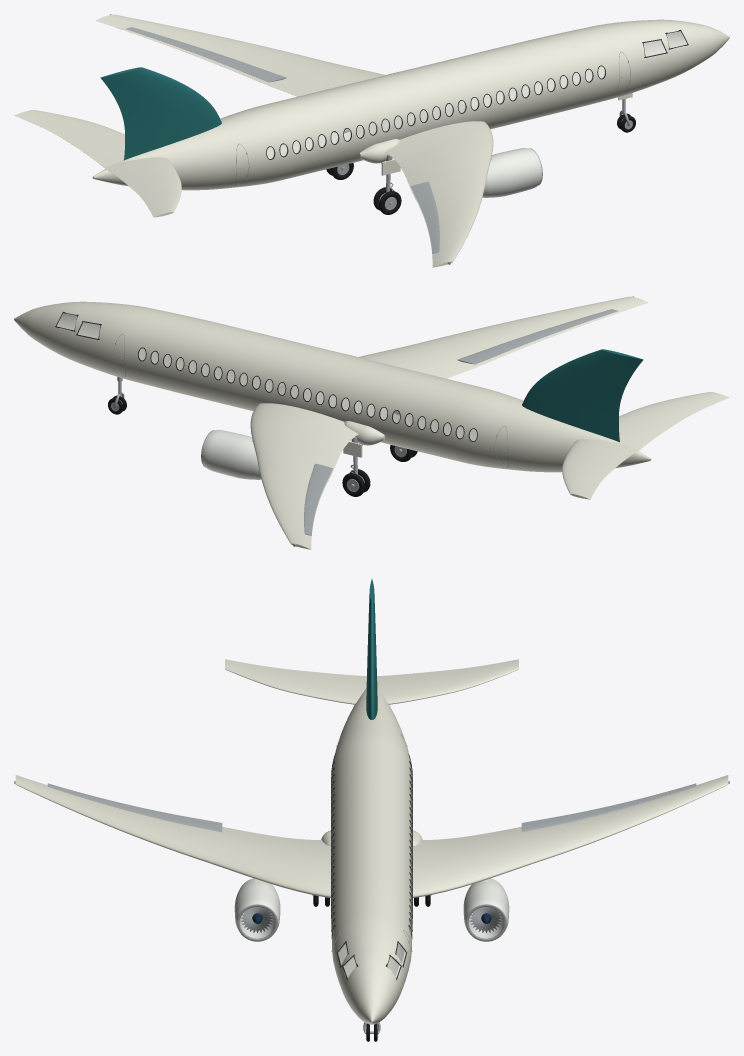
The model's file is narrow-body-airliner.glb.
3 views of the same model, one above another, from view 1: azimuth 30°, elevation 25°; view 2: azimuth 150°, elevation 25°; view 3: azimuth 270°, elevation 25° (orthographic). The views are drawn at different scales.
Parts seen in each view (by area): view 1: Finite lofted fuselage with actual window apertures, Finite swept main wing -1, Shaped seated vertical stabilizer, Finite swept main wing 1, Finite horizontal stabilizer 1, Finite horizontal stabilizer -1, Turbofan -1 finite open nacelle, Seated finite aileron strip 1, Seated finite aileron strip -1, Main gear root fairing -1; view 2: Finite lofted fuselage with actual window apertures, Finite swept main wing 1, Shaped seated vertical stabilizer, Finite swept main wing -1, Finite horizontal stabilizer -1, Finite horizontal stabilizer 1, Turbofan 1 finite open nacelle, Seated finite aileron strip -1, Seated finite aileron strip 1, Main gear root fairing 1; view 3: Finite lofted fuselage with actual window apertures, Finite swept main wing 1, Finite swept main wing -1, Finite horizontal stabilizer 1, Finite horizontal stabilizer -1, Turbofan -1 finite open nacelle, Turbofan 1 finite open nacelle, Seated finite aileron strip 1, Seated finite aileron strip -1, Shaped seated vertical stabilizer.
Part boxes in pixels (x1,y1,x2,y2): Finite lofted fuselage with actual window apertures: (92,19,729,190); Finite swept main wing -1: (357,108,493,267); Shaped seated vertical stabilizer: (100,67,221,160); Finite swept main wing 1: (95,14,465,134); Finite horizontal stabilizer 1: (14,110,124,167); Finite horizontal stabilizer -1: (104,157,181,217); Turbofan -1 finite open nacelle: (482,148,541,197); Seated finite aileron strip 1: (125,27,286,82); Seated finite aileron strip -1: (410,181,439,253); Main gear root fairing -1: (358,139,399,163); Finite lofted fuselage with actual window apertures: (14,301,651,472); Finite swept main wing 1: (250,390,386,549); Shaped seated vertical stabilizer: (522,349,643,442); Finite swept main wing -1: (278,296,648,416); Finite horizontal stabilizer -1: (619,392,729,449); Finite horizontal stabilizer 1: (562,439,639,499); Turbofan 1 finite open nacelle: (202,430,261,479); Seated finite aileron strip -1: (457,309,618,364); Seated finite aileron strip 1: (304,463,333,535); Main gear root fairing 1: (344,421,385,445); Finite lofted fuselage with actual window apertures: (331,688,412,1024); Finite swept main wing 1: (413,775,728,897); Finite swept main wing -1: (15,775,330,897); Finite horizontal stabilizer 1: (377,659,518,704); Finite horizontal stabilizer -1: (225,659,366,704); Turbofan -1 finite open nacelle: (234,878,280,938); Turbofan 1 finite open nacelle: (463,878,509,938); Seated finite aileron strip 1: (521,783,696,832); Seated finite aileron strip -1: (47,783,222,832); Shaped seated vertical stabilizer: (366,579,377,719).
Size of the model in its own units: 37.55 by 10.1 by 34.16.
Materials: 11 (11 with a texture image).
